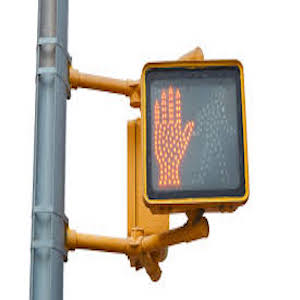red: (147, 90, 191, 176)
